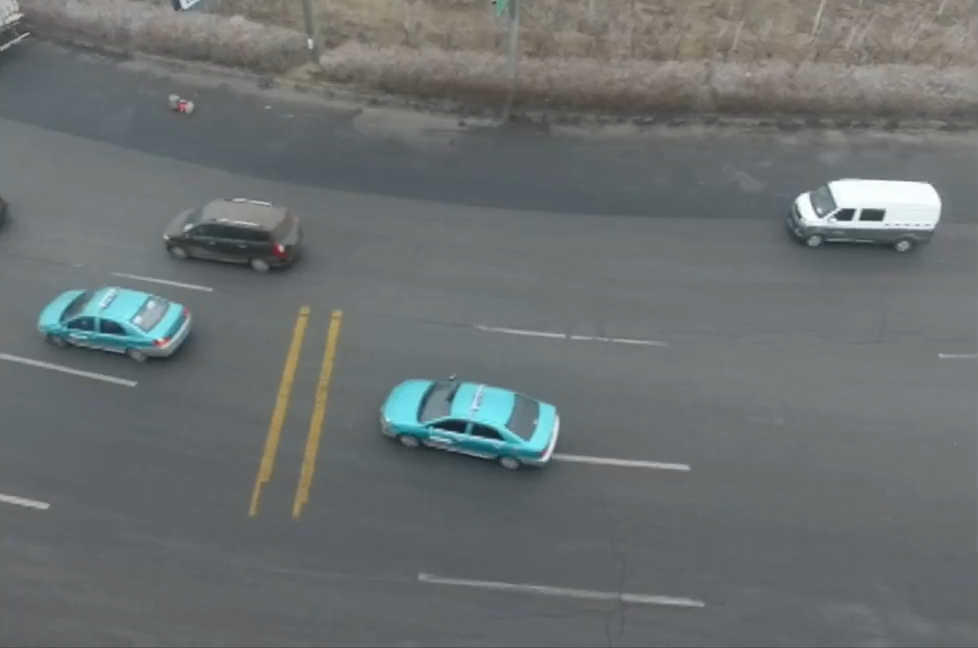car: (376, 374, 563, 472), (36, 284, 193, 366), (788, 176, 945, 252), (159, 198, 302, 274)
